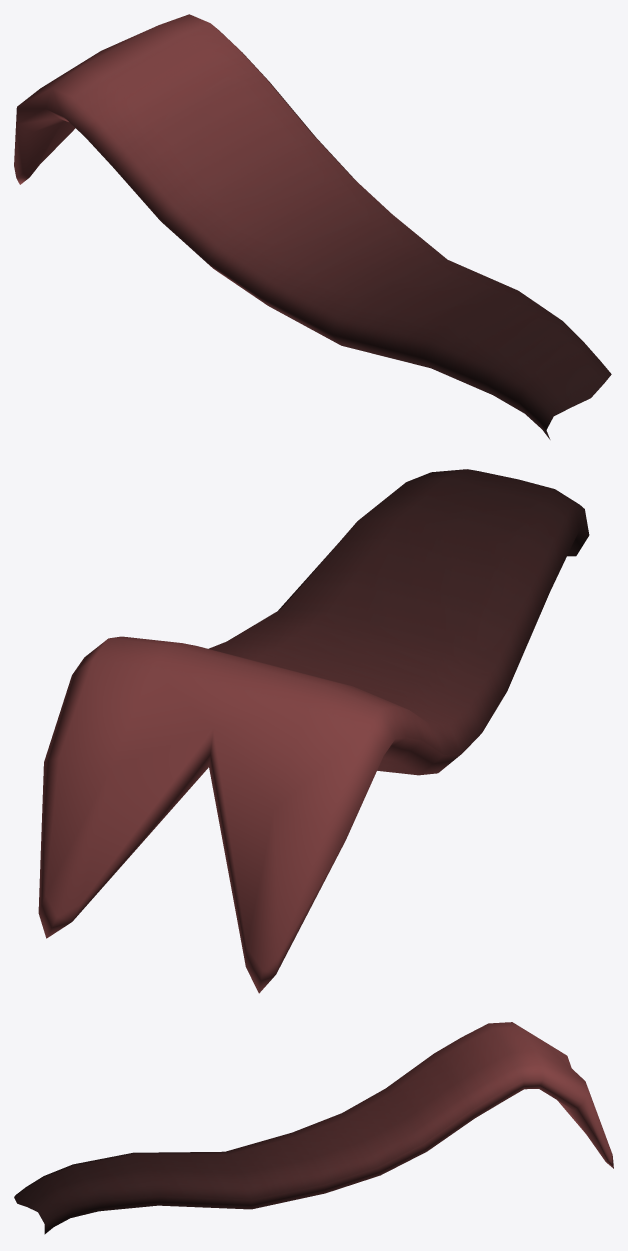
The model's file is forked.glb.
3 renders of one model, top to bottom at view 1: azimuth 30°, elevation 25°; view 2: azimuth 150°, elevation 25°; view 3: azimuth 270°, elevation 25°, orthographic. The views are drawn at different scales.
Parts seen in each view (by area): view 1: cc_forked2; view 2: cc_forked2; view 3: cc_forked2.
Boxes of the visible parts, x1,y1,x2,y2 form: cc_forked2: (14,14,611,439); cc_forked2: (38,469,589,993); cc_forked2: (14,1022,613,1234).
Size of the model in its own units: 0.0408 by 0.0275 by 0.1014.
1 material, 1 textured.
